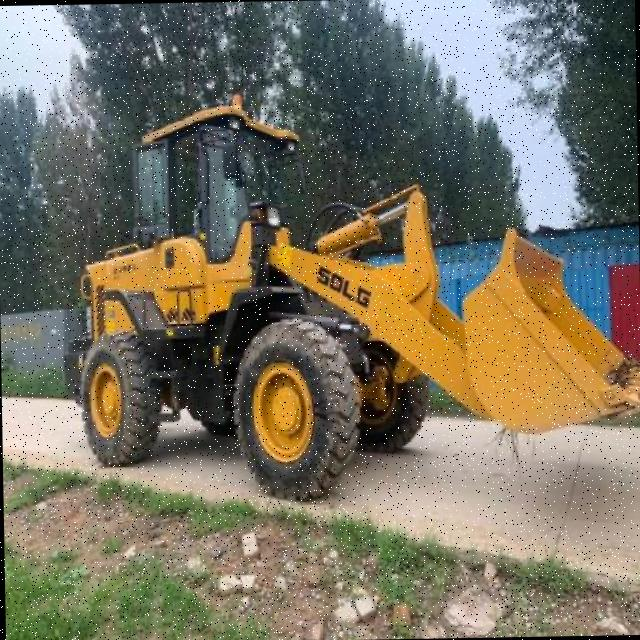Loader: (58, 83, 640, 504)
